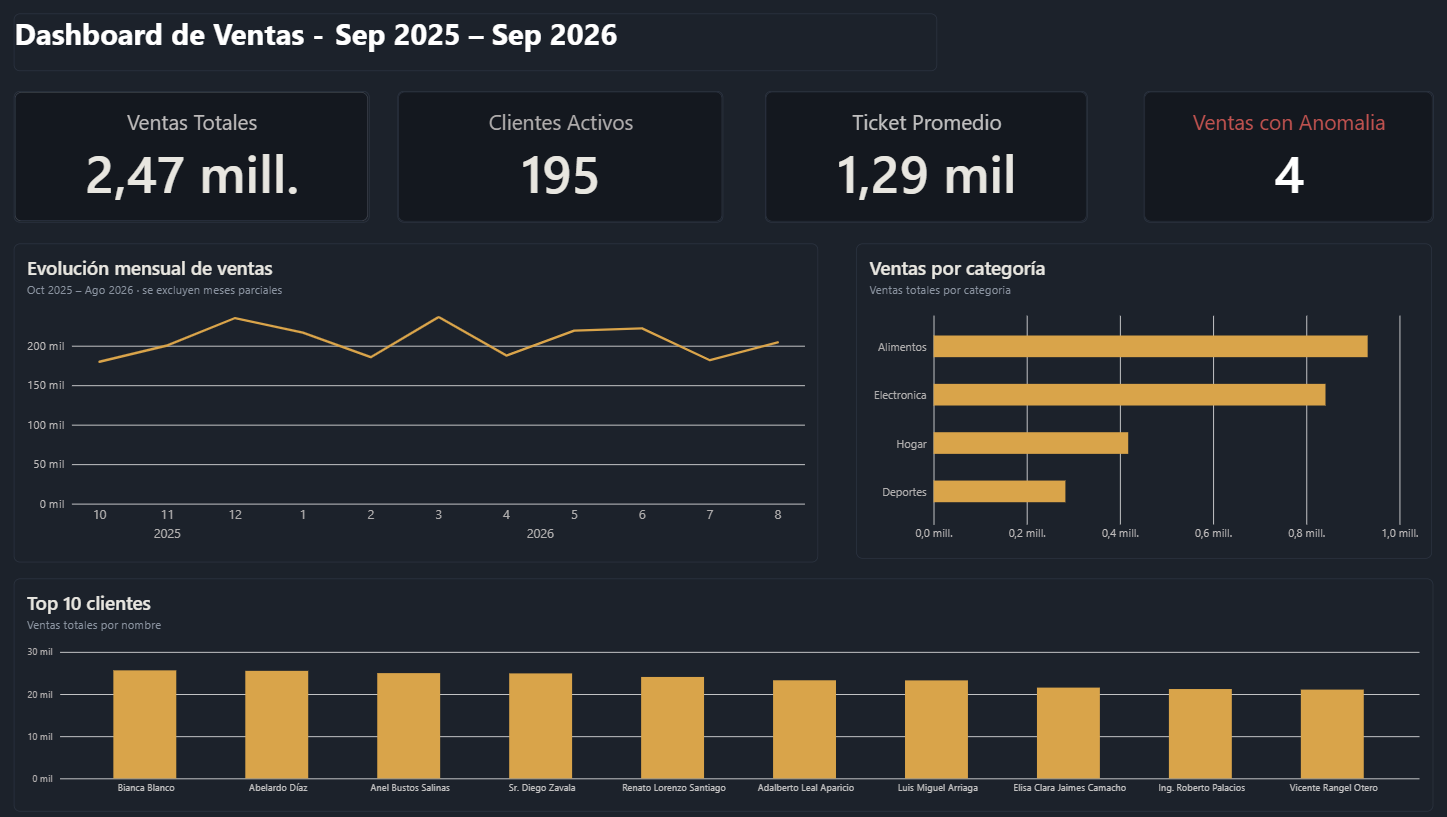

The page's visual inventory and layout, read from the dashboard file:
{"tool":"powerbi","page":{"name":"Página 1","canvas":[1920,1080],"ordinal":0},"visuals":[{"type":"cardVisual","fields":{"Data":["FactVenta.ventasTotales"]},"box":[62,140,454,168],"z":0},{"type":"clusteredBarChart","title":"Ventas por categoría","fields":{"Category":["DimProducto.categoria"],"Y":["FactVenta.ventasTotales"]},"box":[1137.5,335,735,402.5],"z":1000},{"type":"lineChart","title":"Evolución mensual de ventas","fields":{"Category":["DimFecha.anio","DimFecha.mes"],"Y":["FactVenta.ventasTotales"]},"box":[62.5,335,1027.5,407.5],"z":2000},{"type":"textbox","box":[63.3,41.7,830,73.3],"z":3000},{"type":"cardVisual","fields":{"Data":["FactVenta.clientes activos"]},"box":[552,140,416,168],"z":4000},{"type":"cardVisual","fields":{"Data":["FactVenta.ticket promedio"]},"box":[1022,140,412,168],"z":5000},{"type":"cardVisual","fields":{"Data":["FactVenta.Ventas con anomalia"]},"box":[1506,140,370,168],"z":6000},{"type":"clusteredColumnChart","title":"Top 10 clientes","fields":{"Category":["DimCliente.nombre"],"Y":["FactVenta.ventasTotales"]},"box":[62.5,762.5,1812.5,297.5],"z":7000}]}

Visuals, with their boxes in screenshot pixels (x1, y1, x2, y2), scaled from the page's 1920x1080 canvas onto the 1447x817 screenshot:
cardVisual - FactVenta.ventasTotales: locate(47, 106, 389, 233)
"Ventas por categoría" clusteredBarChart: locate(857, 253, 1411, 558)
"Evolución mensual de ventas" lineChart: locate(47, 253, 821, 562)
textbox: locate(48, 32, 673, 87)
cardVisual - FactVenta.clientes activos: locate(416, 106, 730, 233)
cardVisual - FactVenta.ticket promedio: locate(770, 106, 1081, 233)
cardVisual - FactVenta.Ventas con anomalia: locate(1135, 106, 1414, 233)
"Top 10 clientes" clusteredColumnChart: locate(47, 577, 1413, 802)
